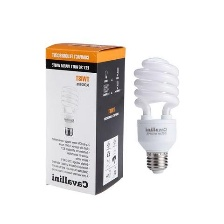carton: (39, 37, 133, 200)
light_bulb: (127, 52, 185, 177)
